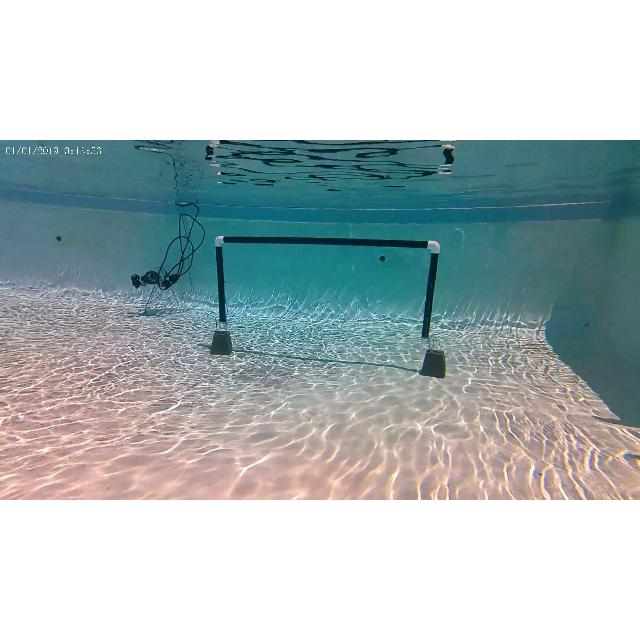prequal gate: (214, 234, 440, 342)
prequal gate leg l: (209, 234, 235, 356)
prequal gate leg r: (419, 236, 449, 382)
